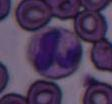N: (28, 26, 83, 78)
